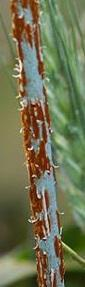Sugarcane: (15, 20, 58, 275)
